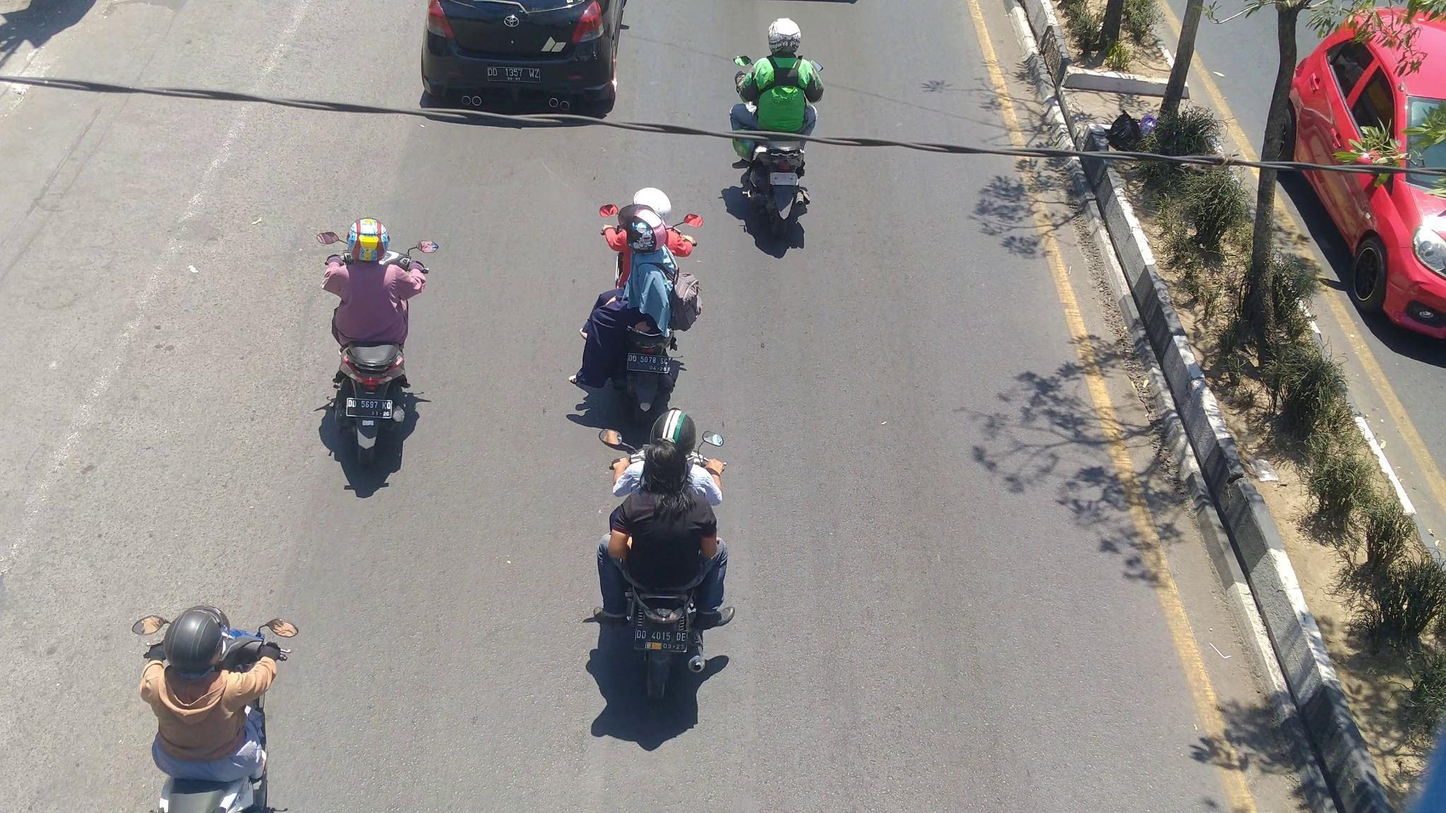Helmet: (154, 600, 241, 683), (337, 210, 400, 272), (614, 199, 671, 258), (645, 407, 703, 455), (758, 11, 808, 57), (630, 183, 675, 223)
bike: (595, 423, 733, 713), (125, 606, 299, 813), (314, 223, 440, 471), (593, 199, 707, 419), (726, 49, 824, 235)
no-helmet: (638, 438, 694, 501)
number-plate: (631, 626, 691, 652), (621, 352, 675, 374), (345, 397, 395, 420), (767, 168, 799, 190)
rider: (593, 433, 734, 628), (138, 601, 279, 788), (569, 202, 699, 386), (323, 217, 425, 355), (735, 13, 824, 164), (609, 405, 728, 509)
